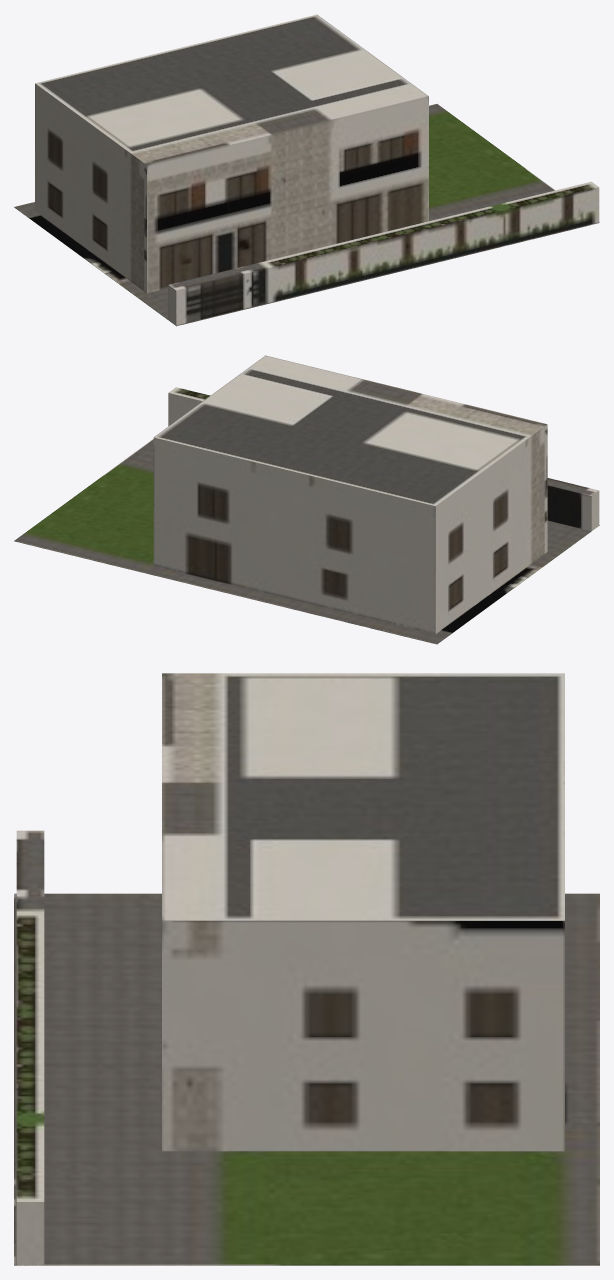
Rendered from house_E_lod2.glb.
The picture shows the model from 3 angles, top to bottom: view 1: azimuth 30°, elevation 25°; view 2: azimuth 150°, elevation 25°; view 3: azimuth 270°, elevation 25°; orthographic projection. The views are drawn at different scales.
Parts seen in each view (by area): view 1: body; view 2: body; view 3: body.
Part boxes in pixels (bbox=[...]): body: bbox=[14, 14, 599, 326]; body: bbox=[14, 355, 599, 644]; body: bbox=[14, 673, 599, 1265].
Bounding box in the file's own units: 30 × 8.7 × 20.
Materials: 1 (1 with a texture image).
